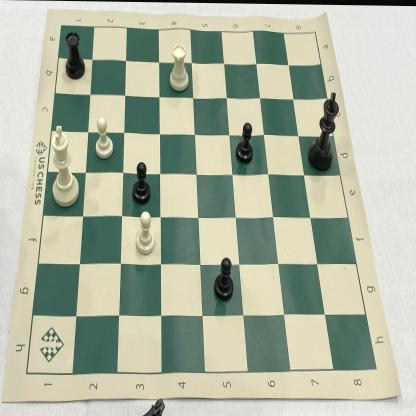black-king: (304, 86, 342, 175)
black-pawn: (208, 251, 239, 308), (230, 114, 259, 169), (128, 155, 154, 208)
black-rook: (61, 26, 88, 86)
white-king: (47, 119, 85, 212)
white-pawn: (130, 207, 160, 260), (90, 113, 116, 161)
white-rook: (165, 39, 194, 100)
